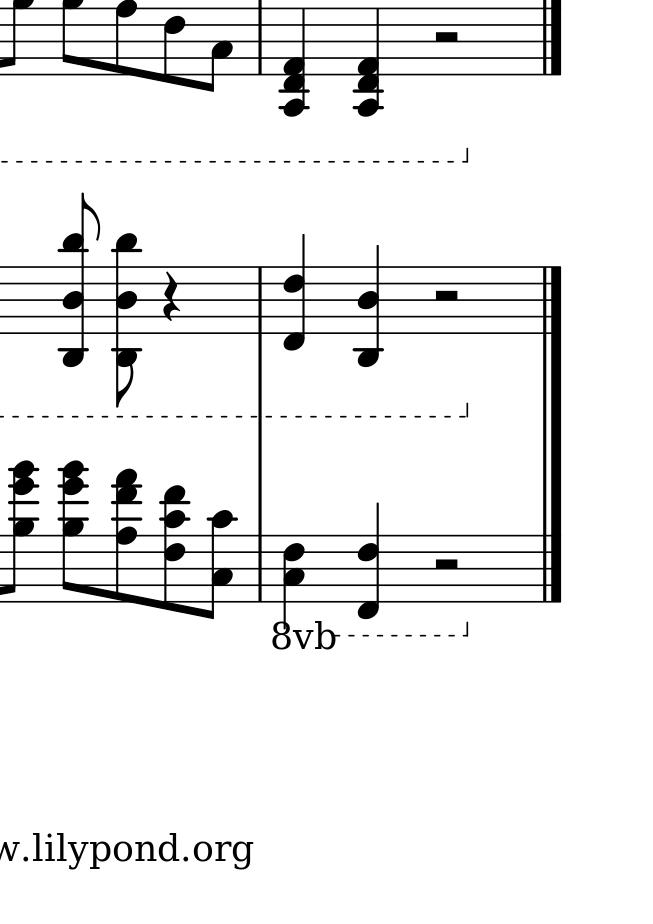4_-1_6: (282, 232, 308, 352), (357, 501, 382, 622)
4_-3_4: (355, 245, 387, 369)
4_3_6: (282, 532, 307, 631)
4_th: (351, 6, 387, 120), (278, 6, 311, 118)
8_3: (200, 4, 234, 94)
8_3_10: (202, 508, 236, 622)
8_6: (161, 5, 186, 86)
8_8: (112, 1, 137, 78)
8_th: (59, 192, 102, 369), (1, 461, 41, 604), (111, 230, 143, 407), (111, 466, 142, 609), (57, 458, 86, 605), (157, 485, 189, 615)
Final_barline: (535, 266, 565, 334), (538, 1, 563, 76), (537, 536, 564, 602)
Rests2: (429, 28, 464, 49), (429, 286, 464, 307), (428, 555, 464, 575)
Rests4: (159, 270, 184, 324)
Single_barline: (252, 1, 268, 75), (251, 268, 268, 331), (252, 535, 268, 601)
